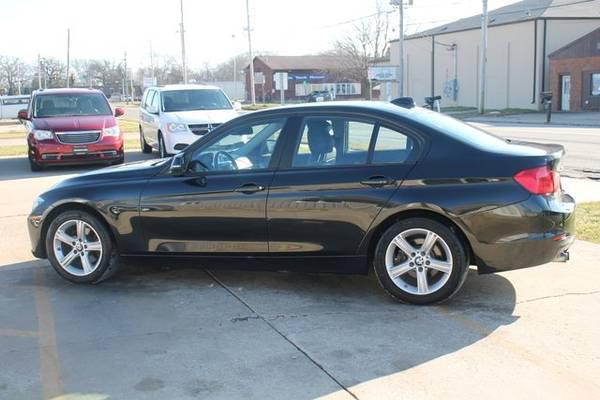Front_Bumper: (28, 202, 52, 257)
Front_Fender: (43, 178, 145, 267)
Front_Left_Door: (139, 171, 276, 269)
Front_Left_Window: (156, 112, 298, 171)
Hood: (49, 161, 161, 188)
Left_Taillight: (514, 164, 556, 193)
Rear_Bumper: (454, 192, 581, 271)
Rear_Fender: (383, 137, 546, 223)
Rear_Left_Door: (266, 165, 416, 275)
Rear_Left_Window: (277, 109, 426, 170)
Roof: (153, 97, 502, 166)
Tailgate: (498, 139, 565, 158)
Wheel: (373, 218, 468, 306), (44, 207, 119, 281)
